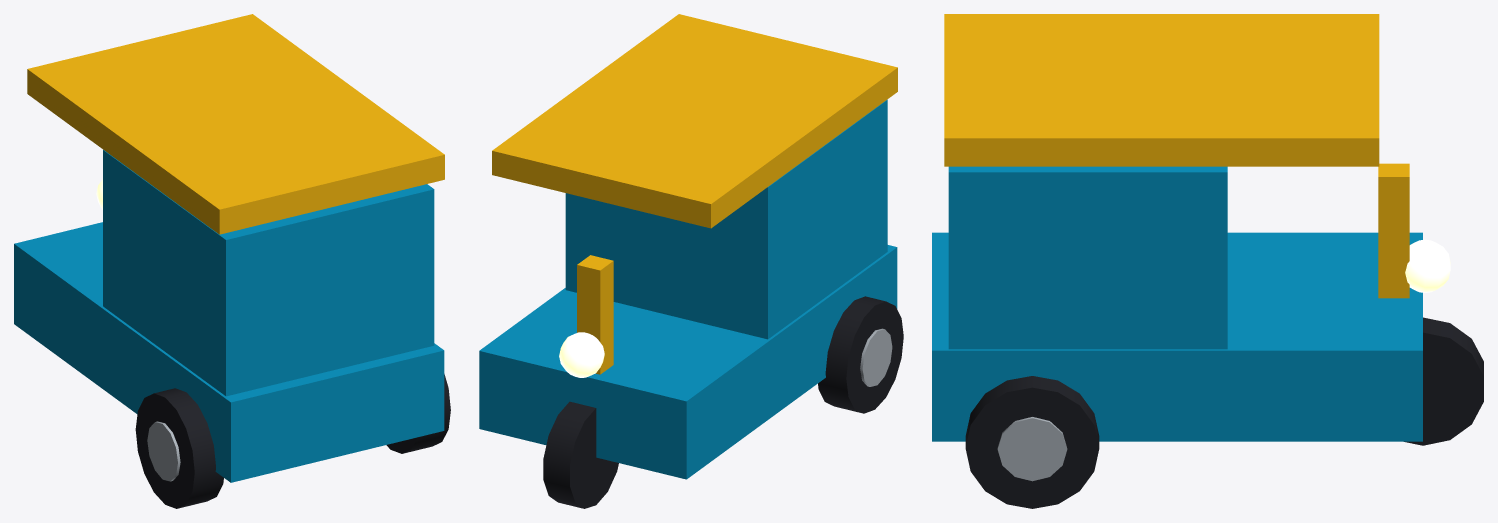
Rendered from deshi_tesla_auto.glb.
The picture shows the model from 3 angles, left to right: view 1: azimuth 30°, elevation 25°; view 2: azimuth 150°, elevation 25°; view 3: azimuth 270°, elevation 25°; orthographic projection. The views are drawn at different scales.
Visible parts, largest first — view 1: deshi_tesla_auto; view 2: deshi_tesla_auto; view 3: deshi_tesla_auto.
Boxes of the visible parts, <box> form: deshi_tesla_auto: <box>14,14,450,508</box>; deshi_tesla_auto: <box>479,14,903,508</box>; deshi_tesla_auto: <box>932,14,1483,508</box>.
Bounding box in the file's own units: 1.53 × 1.79 × 2.47.
